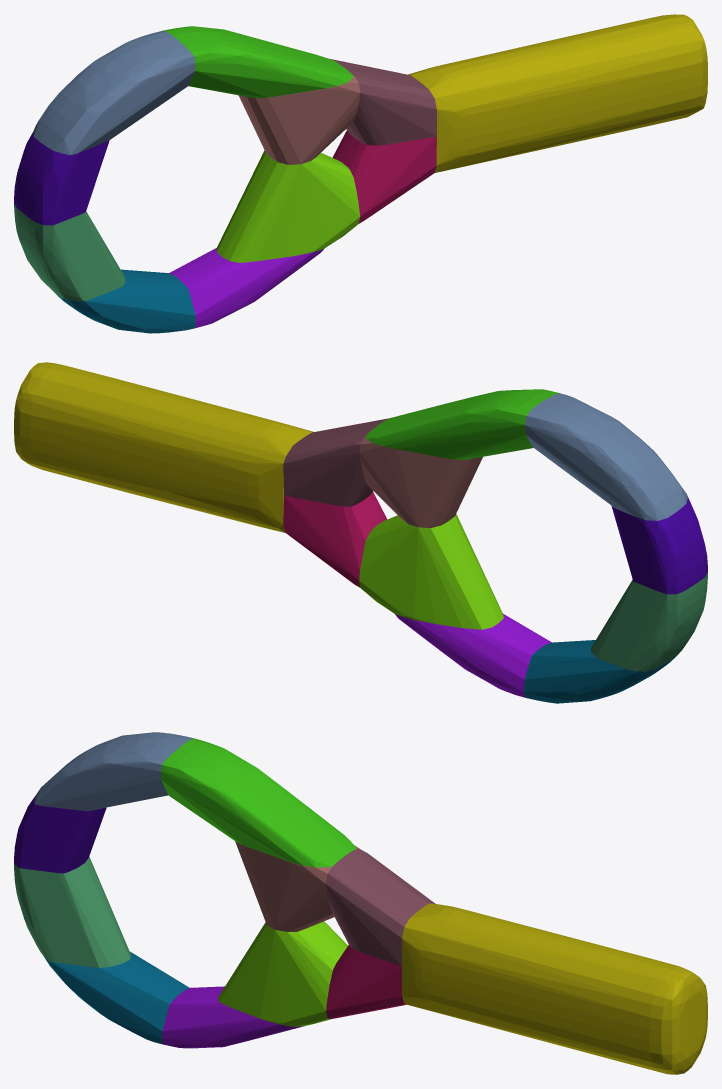
The model's file is coacd_merged.obj.
3 renders of one model, top to bottom at view 1: azimuth 30°, elevation 25°; view 2: azimuth 150°, elevation 25°; view 3: azimuth 330°, elevation 25°, orthographic. The views are drawn at different scales.
Parts seen in each view (by area): view 1: geometry_0, geometry_4, geometry_8, geometry_10, geometry_5, geometry_7, geometry_9, geometry_2, geometry_6, geometry_3, geometry_1; view 2: geometry_0, geometry_4, geometry_8, geometry_10, geometry_5, geometry_7, geometry_9, geometry_2, geometry_6, geometry_3, geometry_1; view 3: geometry_0, geometry_10, geometry_4, geometry_5, geometry_8, geometry_2, geometry_3, geometry_7, geometry_9, geometry_6, geometry_1.
Part boxes in pixels (x1,y1,x2,y2): geometry_0: (408, 14, 707, 172); geometry_4: (216, 150, 360, 262); geometry_8: (33, 31, 195, 155); geometry_10: (162, 26, 353, 98); geometry_5: (14, 204, 125, 301); geometry_7: (238, 76, 360, 164); geometry_9: (14, 132, 109, 225); geometry_2: (330, 59, 436, 145); geometry_6: (169, 248, 324, 327); geometry_3: (56, 269, 195, 333); geometry_1: (332, 130, 436, 223); geometry_0: (14, 362, 313, 532); geometry_4: (359, 514, 503, 629); geometry_8: (525, 393, 687, 520); geometry_10: (365, 389, 559, 459); geometry_5: (591, 572, 707, 671); geometry_7: (359, 436, 482, 527); geometry_9: (611, 496, 707, 594); geometry_2: (283, 418, 388, 506); geometry_6: (395, 614, 551, 697); geometry_3: (523, 640, 676, 703); geometry_1: (283, 492, 387, 587); geometry_0: (402, 903, 707, 1074); geometry_10: (161, 738, 356, 867); geometry_4: (218, 921, 347, 1026); geometry_5: (14, 856, 130, 967); geometry_8: (34, 732, 194, 811); geometry_2: (325, 849, 435, 966); geometry_3: (44, 951, 189, 1044); geometry_7: (235, 841, 360, 931); geometry_9: (14, 796, 106, 873); geometry_6: (162, 986, 304, 1048); geometry_1: (326, 945, 406, 1018).
Bounding box in the file's own units: 0.1544 × 0.063 × 0.0193.
